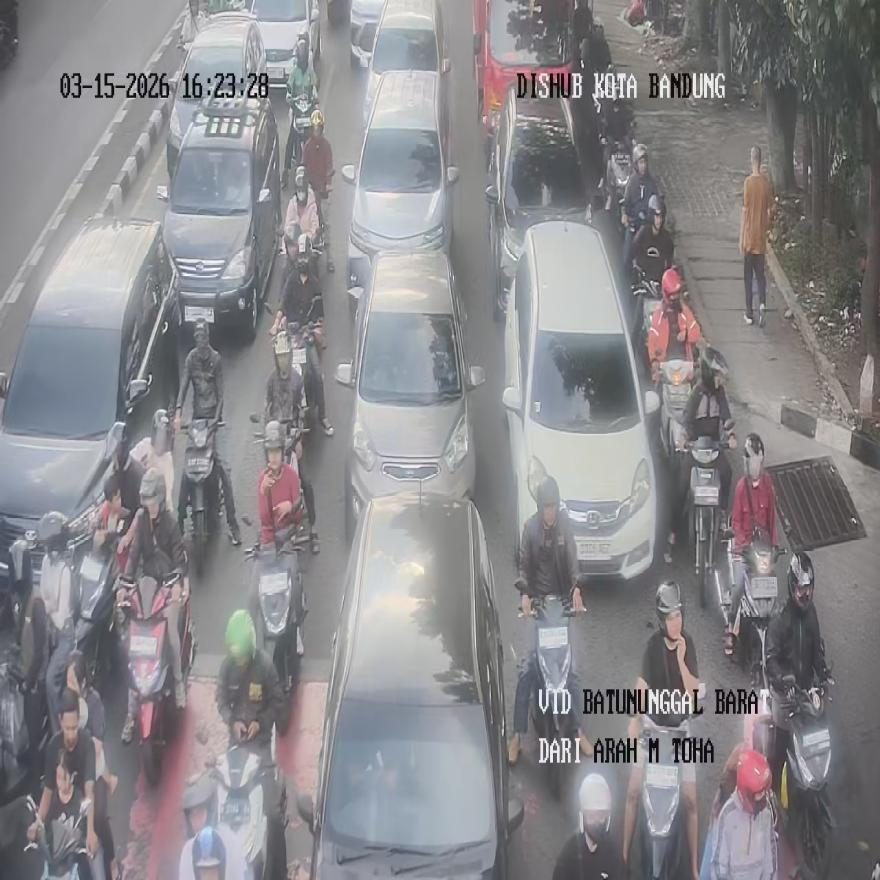Motor: (297, 495, 524, 876), (0, 216, 179, 596), (502, 220, 661, 579), (335, 250, 485, 542), (157, 97, 278, 342), (342, 70, 459, 319), (484, 83, 592, 320), (166, 11, 270, 177), (361, 0, 450, 167), (249, 0, 321, 90)
